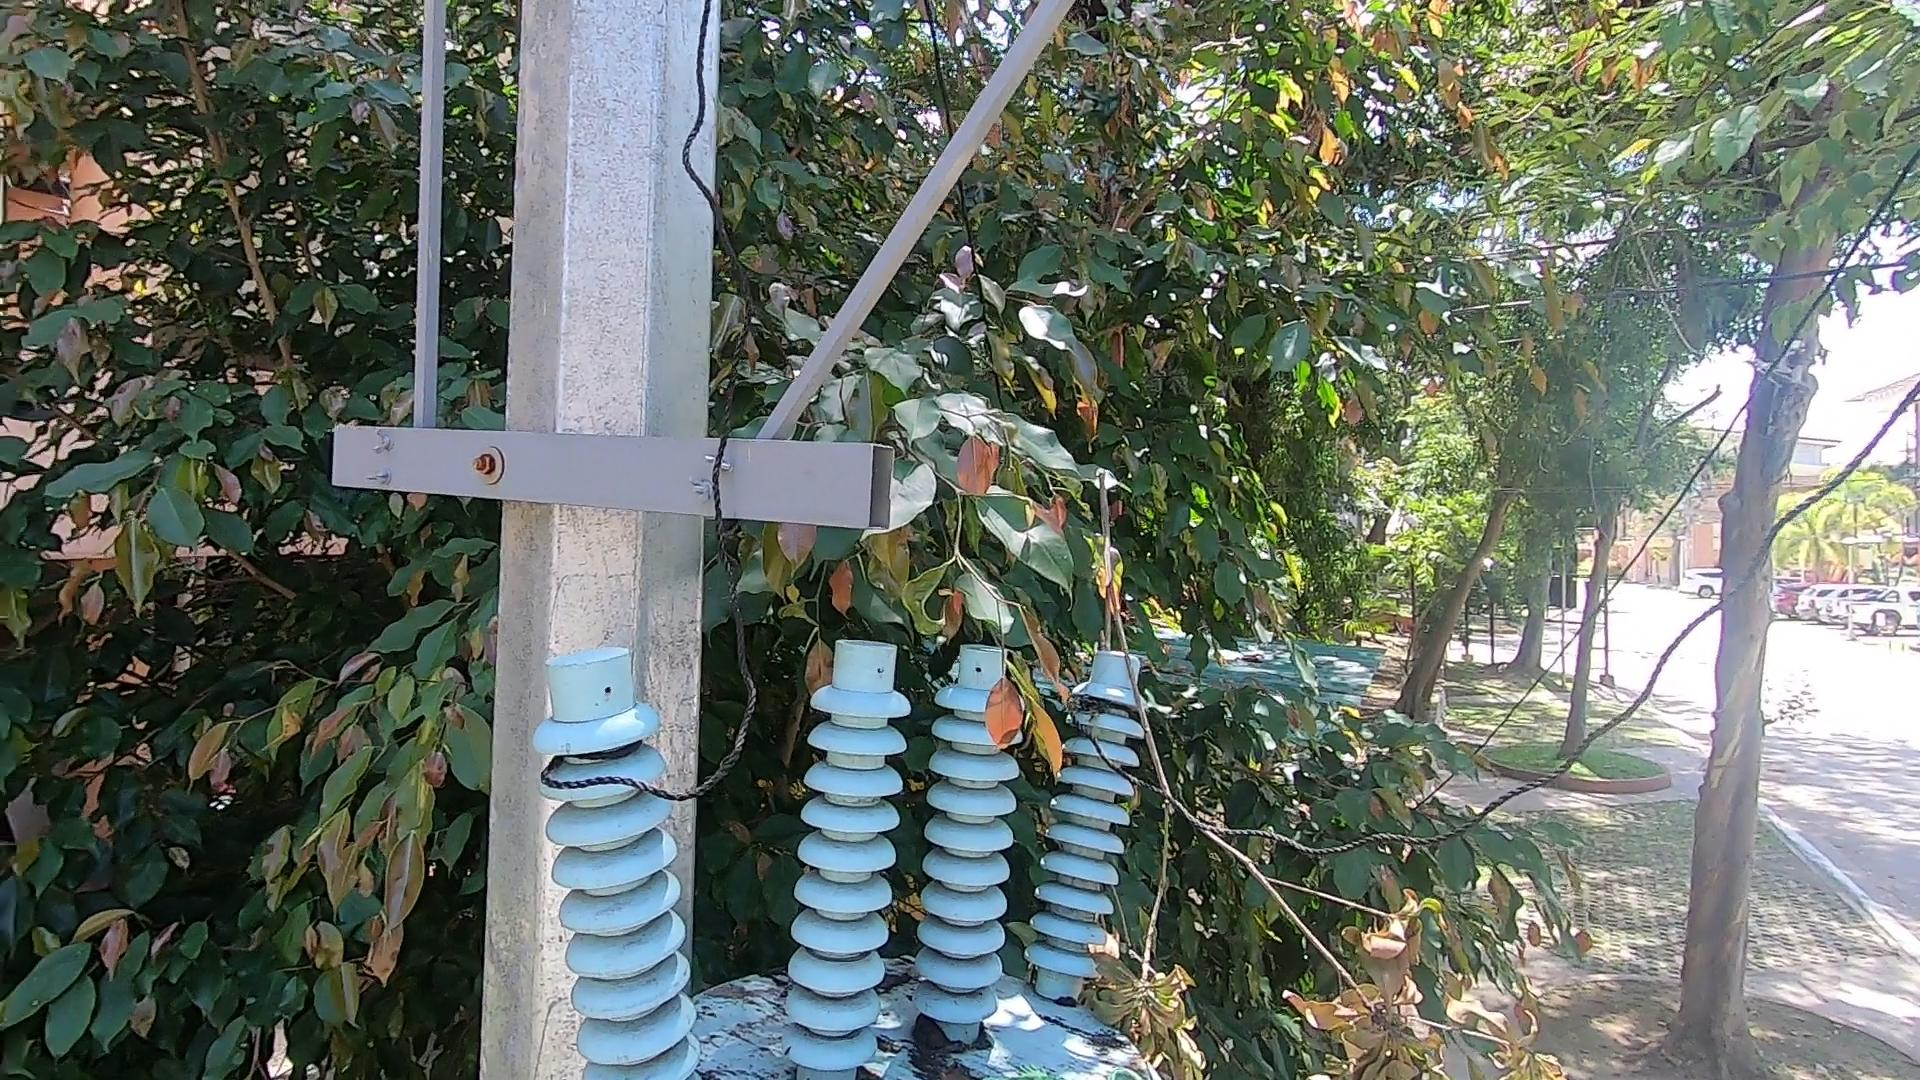branch with leaves: (1073, 443, 1577, 1077)
leaf: (905, 1019, 952, 1062), (963, 1027, 998, 1055)
